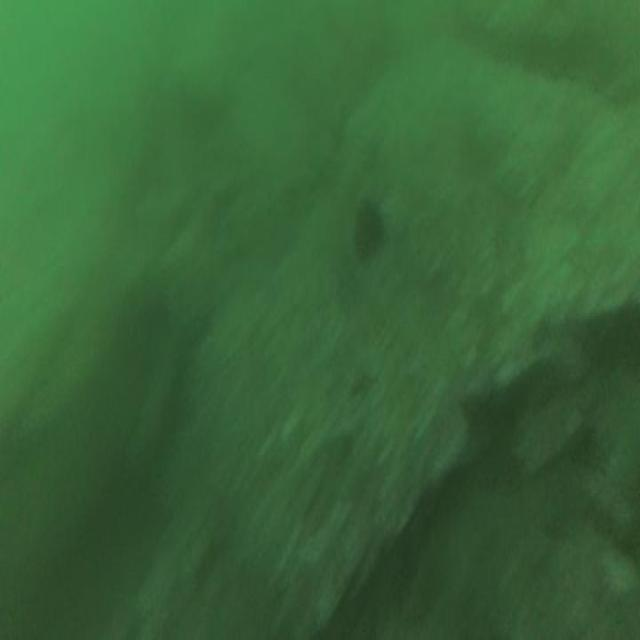echinus: (353, 199, 383, 258)
